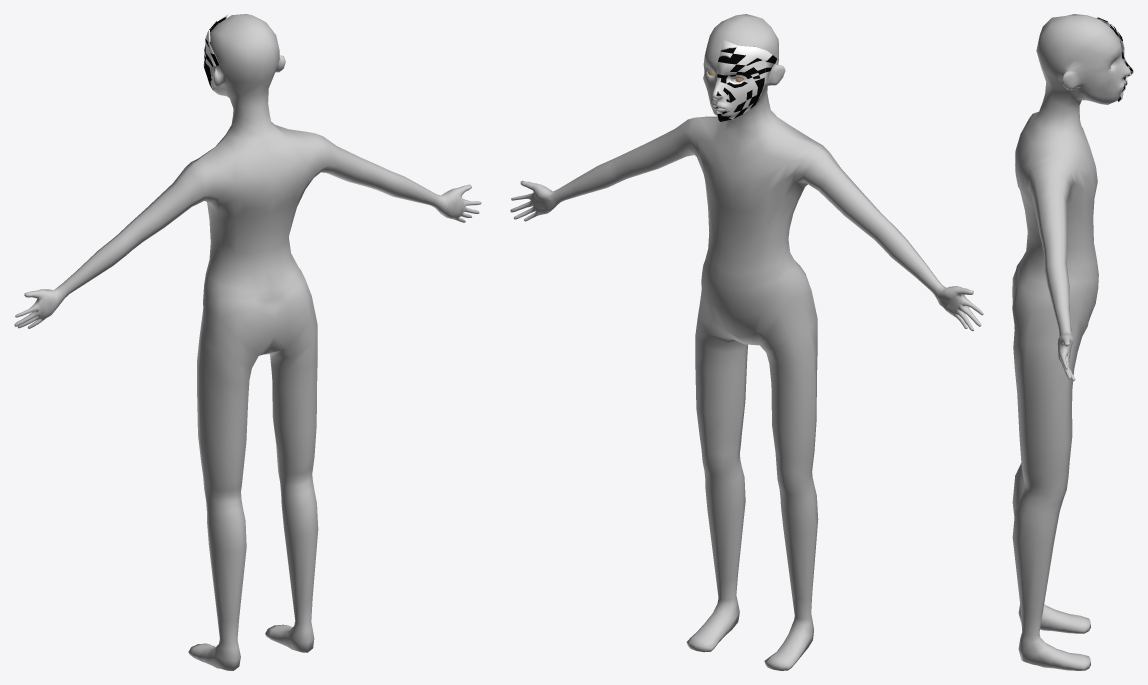
Rendered from PantinTPause.fbx.
The picture shows the model from 3 angles, left to right: view 1: azimuth 30°, elevation 25°; view 2: azimuth 150°, elevation 25°; view 3: azimuth 270°, elevation 25°; orthographic projection.
Parts seen in each view (by area): view 1: Pantin; view 2: Pantin, Pantin.001; view 3: Pantin, Pantin.001.
Part boxes in pixels (left/top/right/bottom): Pantin: left=14, top=14, right=481, bottom=670; Pantin: left=510, top=14, right=983, bottom=670; Pantin.001: left=712, top=40, right=776, bottom=121; Pantin: left=1012, top=14, right=1130, bottom=670; Pantin.001: left=1096, top=17, right=1133, bottom=101.
Bounding box in the file's own units: 159 × 205 × 35.56.
